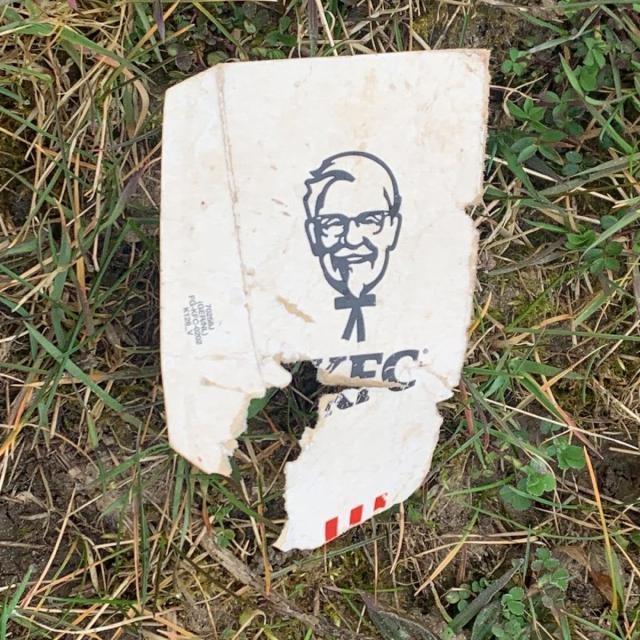Paper: (155, 45, 493, 559)
